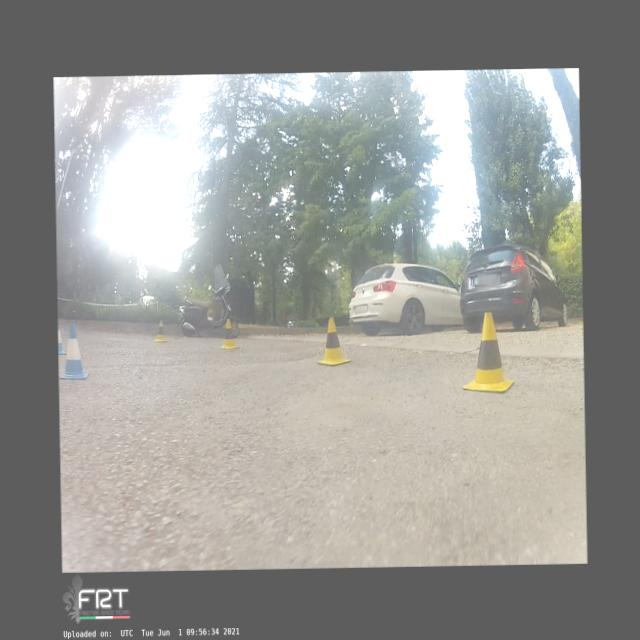blue_cone: (58, 319, 89, 380), (58, 324, 66, 354)
yellow_cone: (461, 311, 514, 392), (316, 316, 351, 366), (218, 317, 238, 349), (153, 320, 167, 342)
